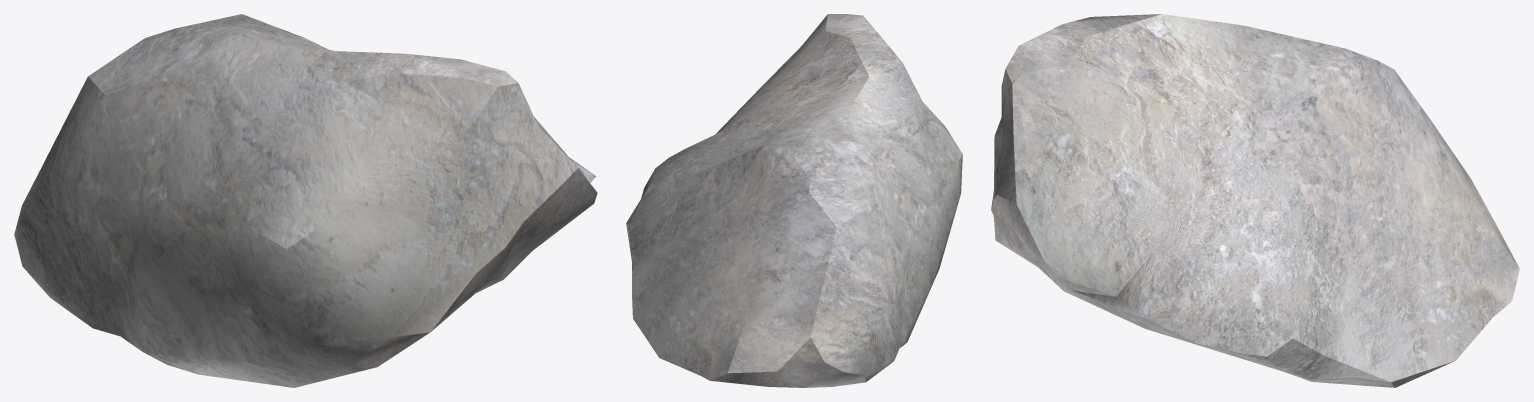
The model's file is rock_00_lp2_2k.fbx.
3 renders of one model, left to right at view 1: azimuth 30°, elevation 25°; view 2: azimuth 150°, elevation 25°; view 3: azimuth 270°, elevation 25°, orthographic. The views are drawn at different scales.
Visible parts, largest first — view 1: rock_00_lp2_2k; view 2: rock_00_lp2_2k; view 3: rock_00_lp2_2k.
Boxes of the visible parts, left/top/right/bottom form: rock_00_lp2_2k: left=14, top=14, right=597, bottom=387; rock_00_lp2_2k: left=626, top=14, right=962, bottom=387; rock_00_lp2_2k: left=991, top=14, right=1519, bottom=387.
Bounding box in the file's own units: 197 × 147 × 226.
